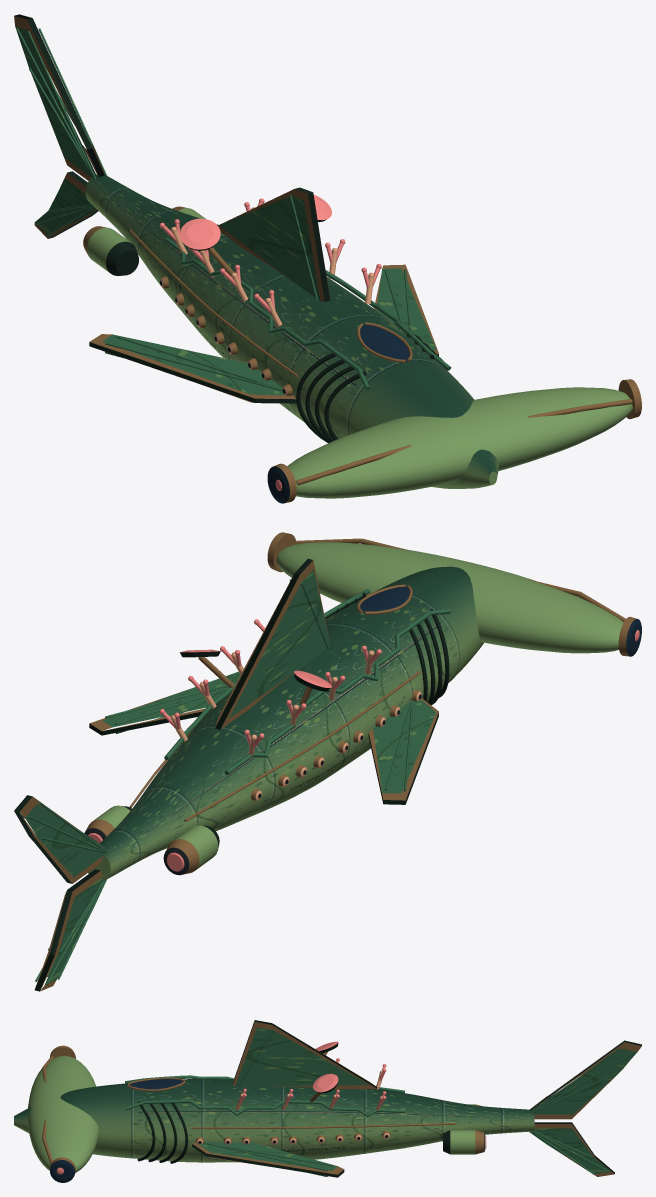
3 renders of one model, top to bottom at view 1: azimuth 30°, elevation 25°; view 2: azimuth 150°, elevation 25°; view 3: azimuth 270°, elevation 25°, orthographic. The views are drawn at different scales.
Visible parts, largest first — view 1: hammerhead_hull; view 2: hammerhead_hull; view 3: hammerhead_hull.
Boxes of the visible parts, x1,y1,x2,y2 form: hammerhead_hull: (14, 14, 641, 503); hammerhead_hull: (14, 532, 641, 991); hammerhead_hull: (14, 1020, 641, 1182).
Size of the model in its own units: 34.14 by 21.29 by 78.
1 material, 1 textured.
